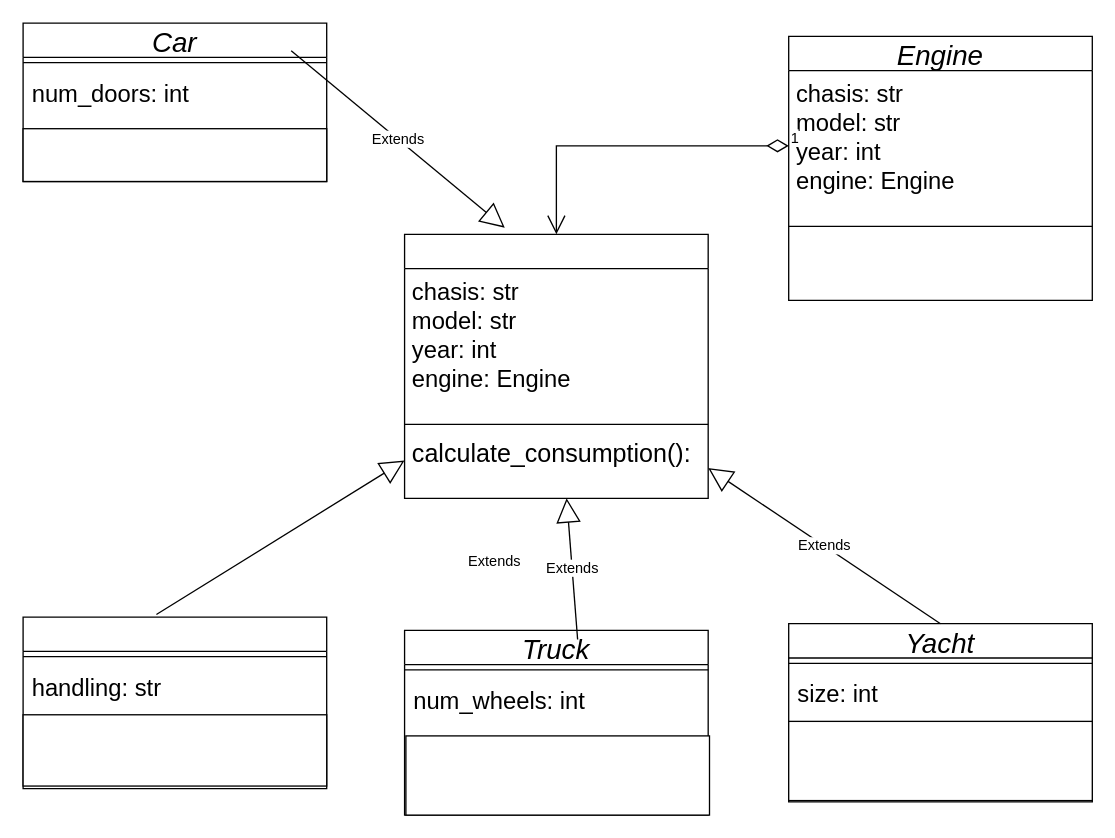
Some shapes in this 1115 by 838 pixel diagram are drawn without their labels. The box of each missing label's shape, as (x1, y1, x2, y2) in pixels:
Motorcycle: (22, 616, 327, 789)
Vehicle: (403, 233, 708, 498)
